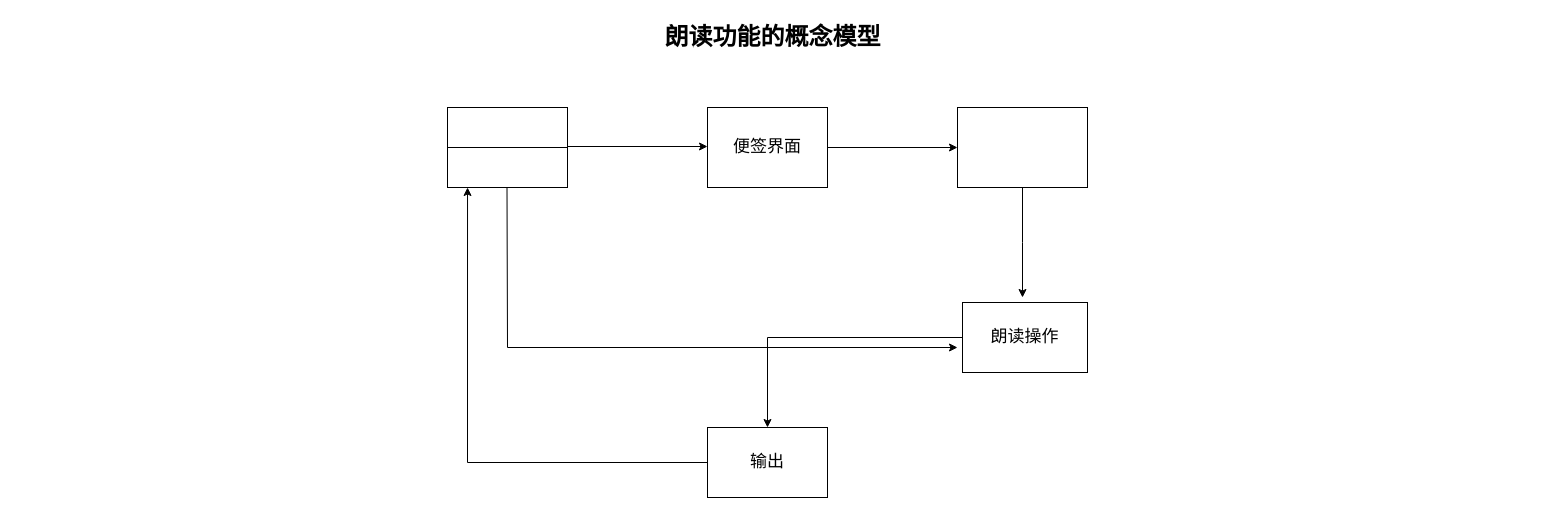
This 1544x515 diagram has some shape labels left out. Each missing label, with the box of its shape:
用户: (446, 106, 568, 148)
选中文本: (956, 106, 1088, 188)
